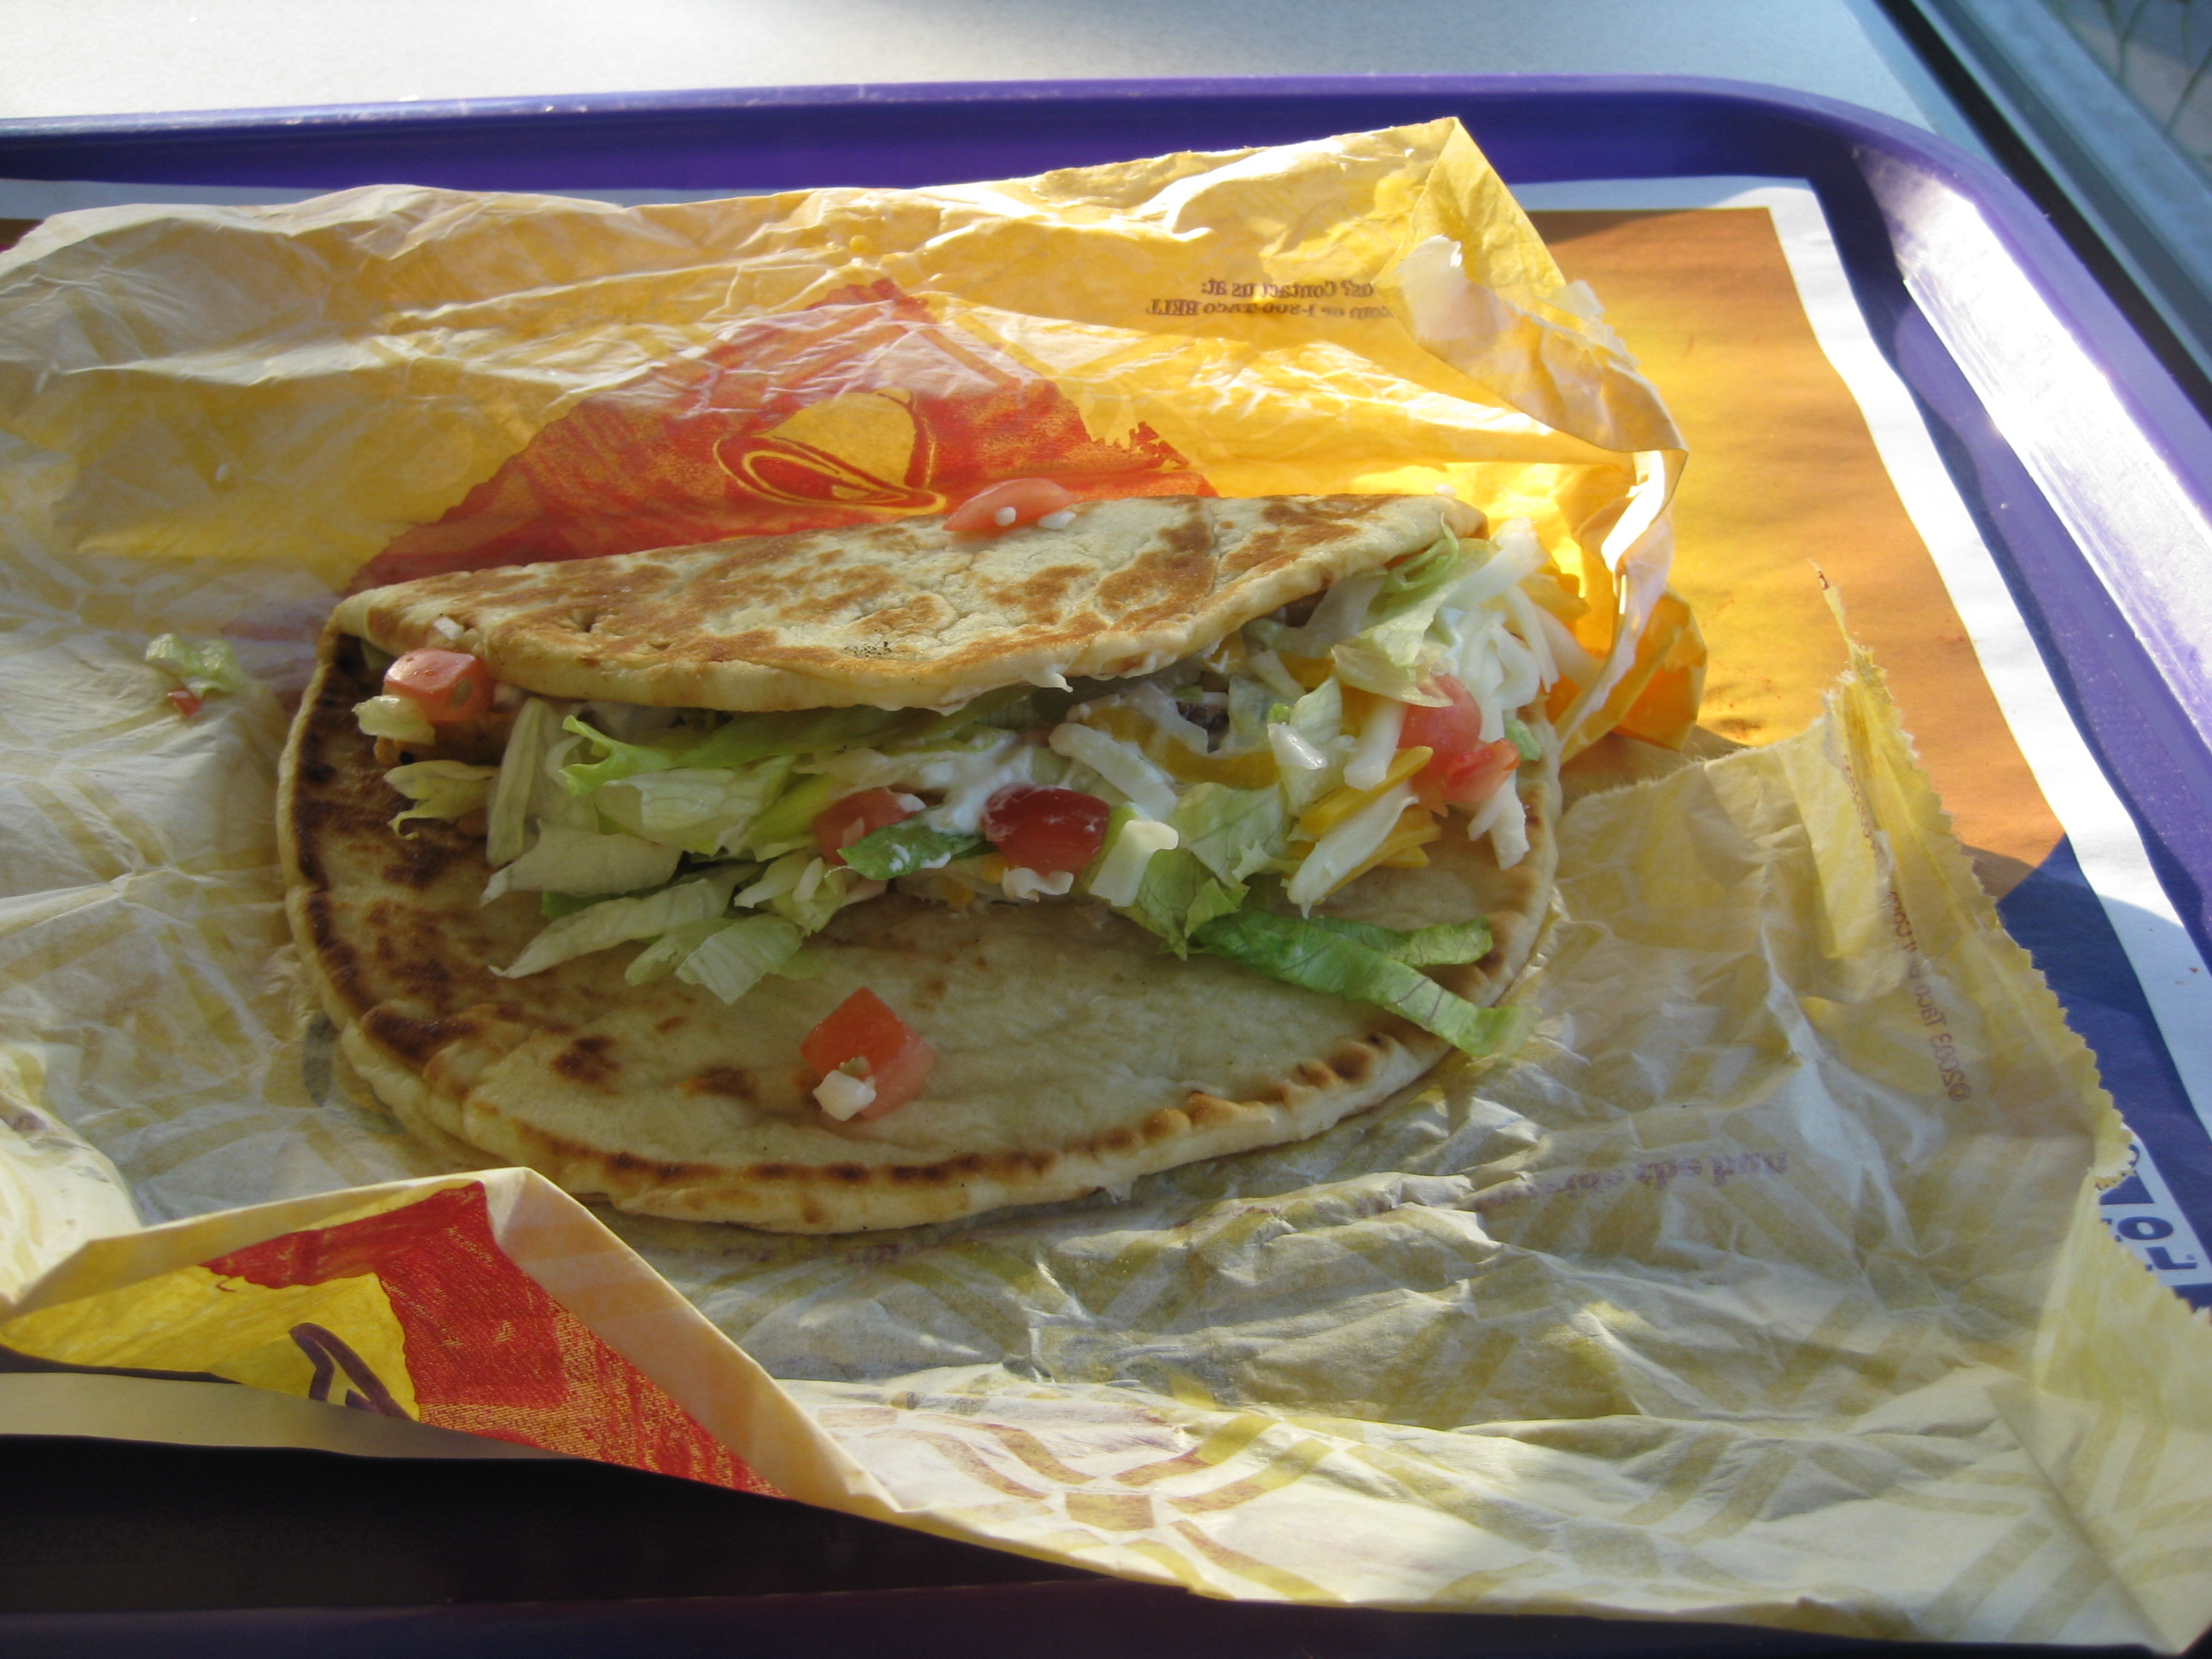taco: (271, 500, 1653, 1241)
